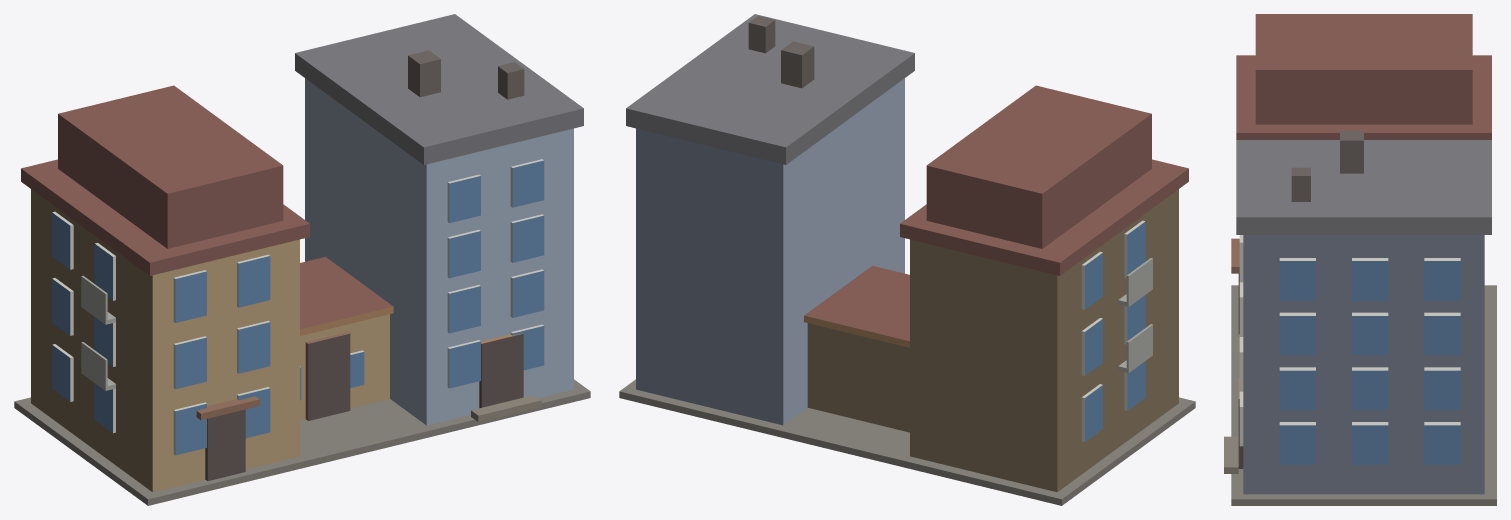
Rendered from Complex.fbx.
3 renders of one model, left to right at view 1: azimuth 30°, elevation 25°; view 2: azimuth 150°, elevation 25°; view 3: azimuth 270°, elevation 25°, orthographic.
Visible parts, largest first — view 1: Complex; view 2: Complex; view 3: Complex.
Part boxes in pixels (x1,y1,x2,y2): Complex: (14, 14, 590, 505); Complex: (619, 14, 1195, 505); Complex: (1224, 14, 1496, 505).
Bounding box in the file's own units: 2100 × 1460 × 1130.
